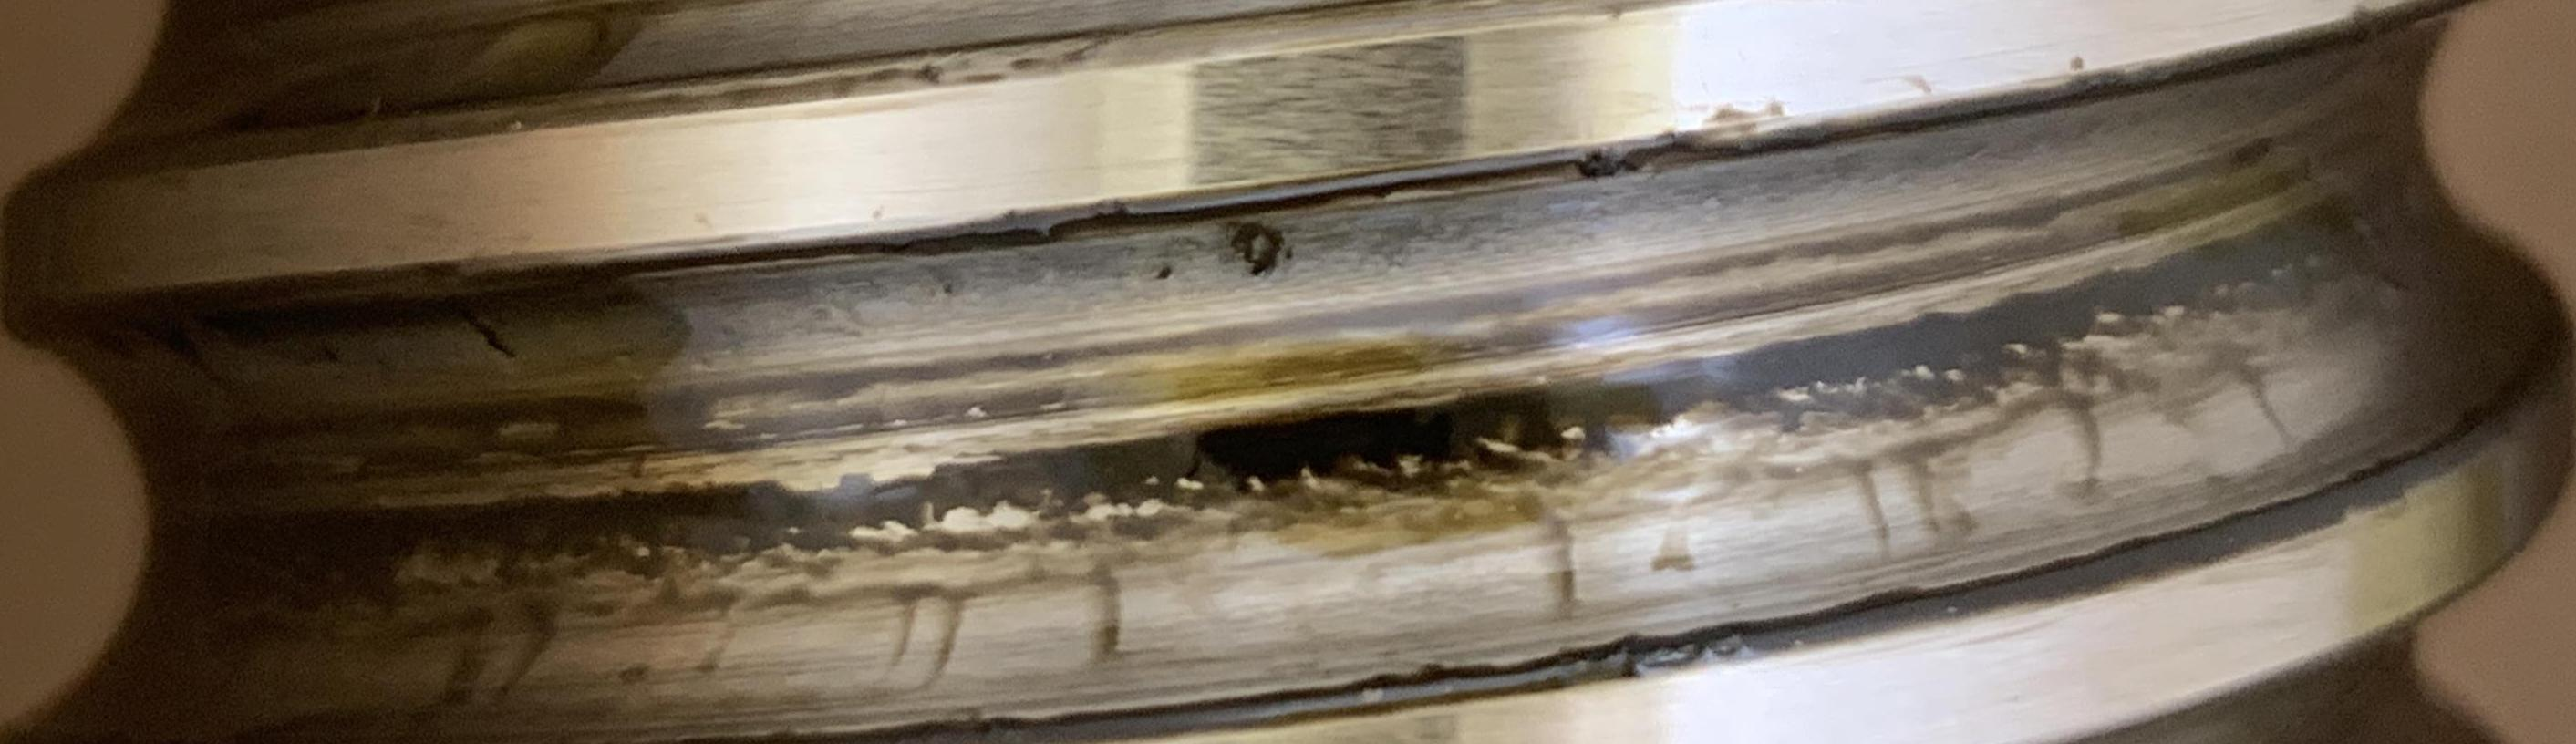pitting: (1230, 222, 1283, 276), (465, 310, 516, 360), (1155, 266, 1171, 279)
